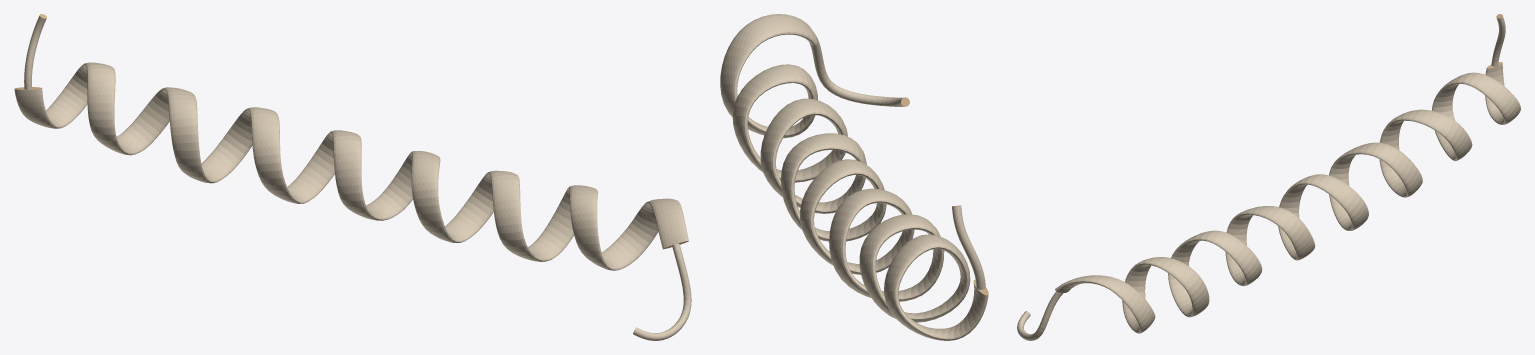
File: Helix.dae
3 renders of one model, left to right at view 1: azimuth 30°, elevation 25°; view 2: azimuth 150°, elevation 25°; view 3: azimuth 270°, elevation 25°, orthographic. The views are drawn at different scales.
Visible parts, largest first — view 1: Shape_IndexedTriangleSet; view 2: Shape_IndexedTriangleSet; view 3: Shape_IndexedTriangleSet.
Boxes of the visible parts, x1,y1,x2,y2 form: Shape_IndexedTriangleSet: (14,14,691,340); Shape_IndexedTriangleSet: (720,14,988,340); Shape_IndexedTriangleSet: (1017,14,1520,340).
Size of the model in its own units: 32.2 by 37.29 by 14.34.
